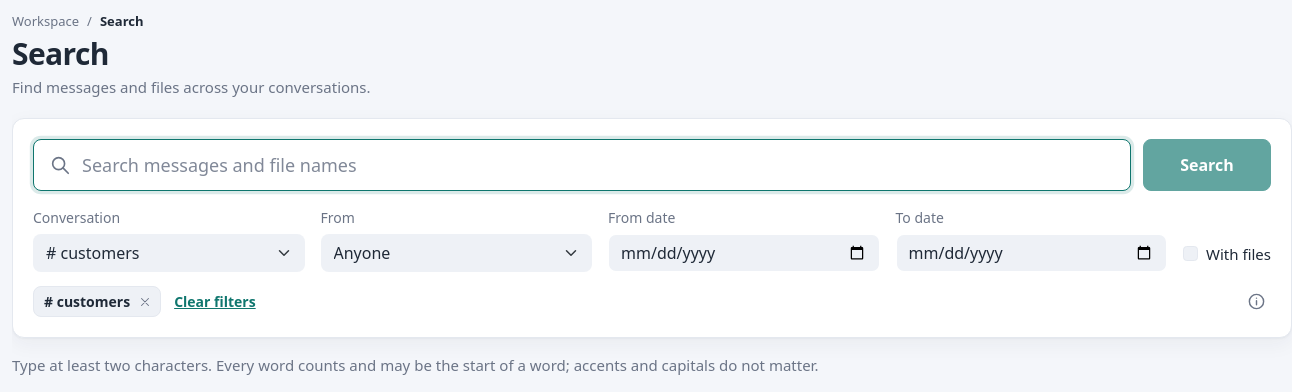
it: Search (Phase 14) › starts filtered to a conversation from the link in a conversation, and clears filters
The width and height of the screenshot is (1292, 392).
Check: the text "# customers" is shown, box [33,286,161,317]
Check: the dropdown labelled "Conversation" shows "# customers", box [33,234,304,272]
Click the button "Clear filters" at [215, 302], box [169,290,261,313]
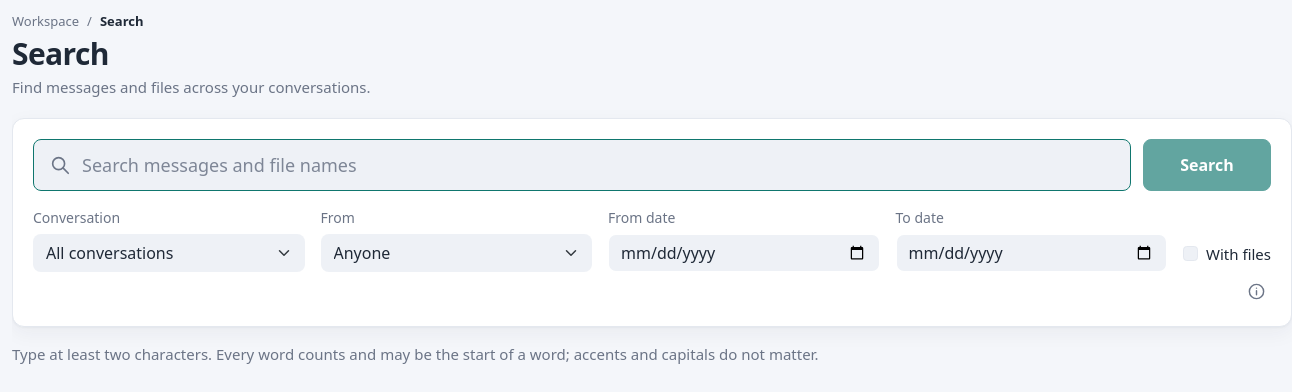
Check: the dropdown labelled "Conversation" shows "All conversations", box [33,234,304,272]
Check: the button "Clear filters" is gone
